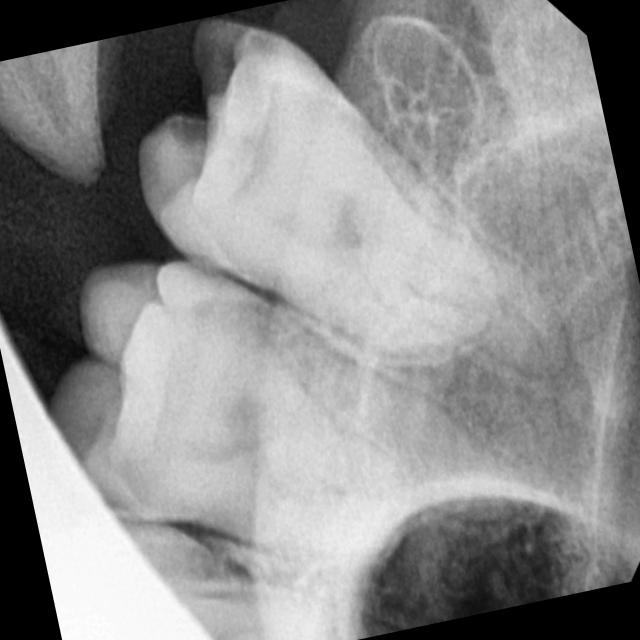Normal: (101, 0, 514, 390), (0, 230, 382, 627)
